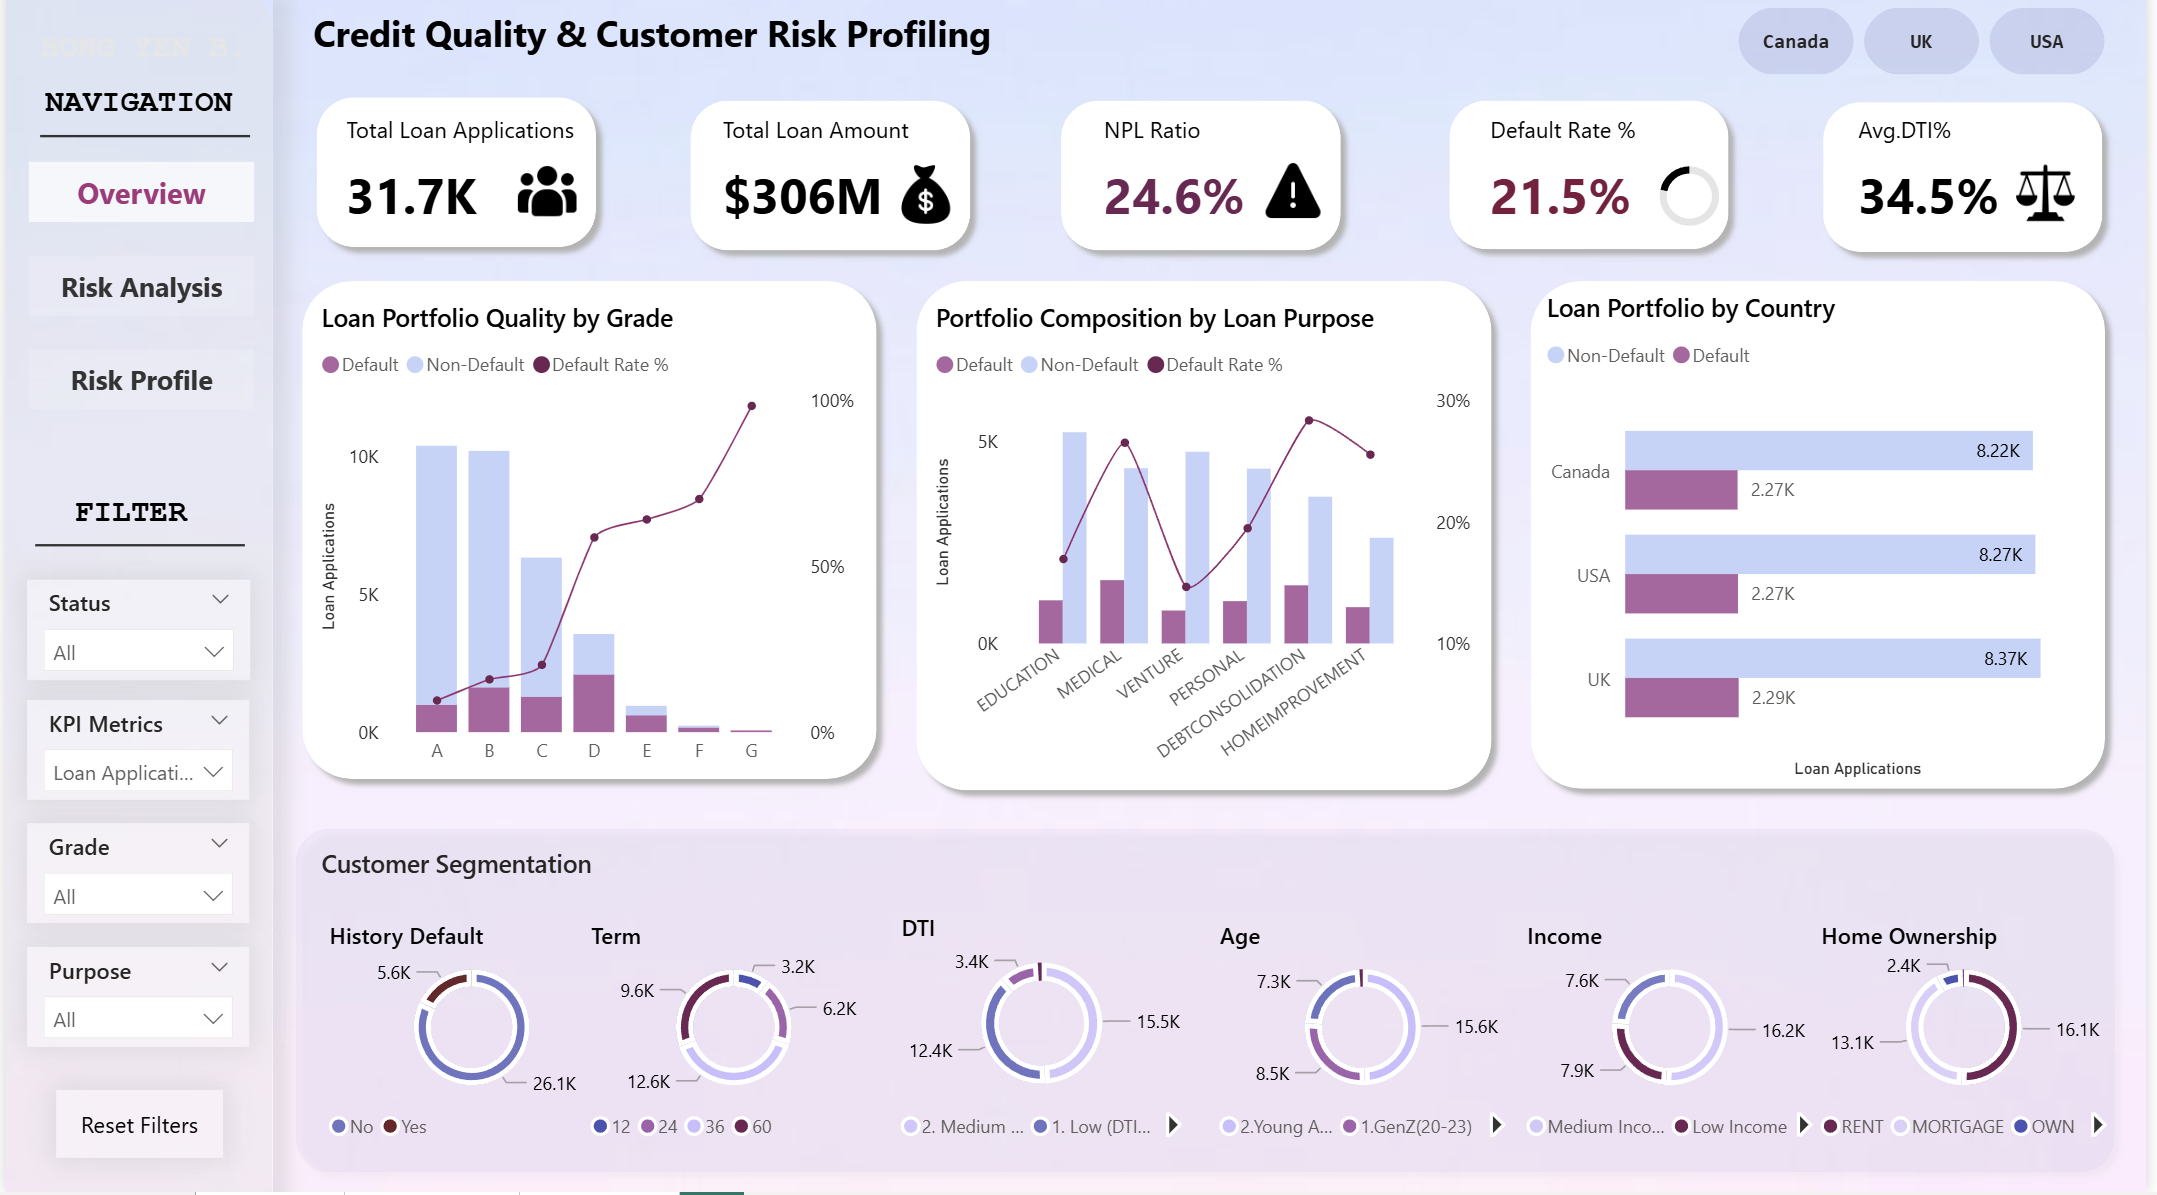

Layout of this report page (visuals, bound fields, positions):
{"tool":"powerbi","page":{"name":"Overview","canvas":[1280,720],"ordinal":0},"visuals":[{"type":"shape","box":[0,0,159.2,720.1],"z":0,"group":"g6"},{"type":"shape","box":[401.2,58.9,183.3,105.6],"z":0,"group":"g5"},{"type":"shape","box":[903.7,167,359.6,319.7],"z":0,"group":"g2"},{"type":"shape","box":[169.1,167.1,359.6,313.9],"z":0,"group":"g4"},{"type":"shape","box":[536.9,167.1,360,320.7],"z":0,"group":"g3"},{"type":"shape","box":[165.1,495,1103.9,221.6],"z":0,"group":"g1"},{"type":"shape","box":[177.6,56.9,183,105.6],"z":500,"group":"g5"},{"type":"donutChart","title":"History Default","fields":{"Y":["_Measures.Total Loan Applications"],"Category":["dim_credit_history.Person_Default_History"]},"box":[188.3,558.3,180,140.3],"z":500,"group":"g1"},{"type":"actionButton","title":"Reset filter 1","box":[30.1,658.4,99.5,40.6],"z":500,"group":"g6"},{"type":"shape","box":[854.9,58.4,183,105],"z":531,"group":"g5"},{"type":"shape","box":[1078.3,59.8,183,105.6],"z":546,"group":"g5"},{"type":"shape","box":[622.9,58.9,183.3,105.6],"z":562,"group":"g5"},{"type":"image","box":[752.1,102.2,35,36],"z":585,"group":"g5"},{"type":"image","box":[306.1,102.1,35,36.9],"z":609,"group":"g5"},{"type":"image","box":[1201.8,104.4,35,35],"z":656,"group":"g5"},{"type":"lineStackedColumnComboChart","title":"Loan Portfolio Quality by Grade","fields":{"Y":["_Measures.Total Loan Applications"],"Category":["credit_risk fact_loan_details.loan_grade"],"Y2":["_Measures.Default Rate %"],"Series":["fact_loan_details.Loan label"]},"box":[183.6,183.5,328.5,290.6],"z":1000,"group":"g4"},{"type":"lineClusteredColumnComboChart","title":"Portfolio Composition by Loan Purpose","fields":{"Y":["_Measures.Total Loan Applications"],"Category":["credit_risk fact_loan_details.loan_intent"],"Series":["fact_loan_details.Loan label"],"Y2":["_Measures.Default Rate %"]},"box":[551.6,183.5,330.4,292.5],"z":1000,"group":"g3"},{"type":"donutChart","title":"DTI","fields":{"Y":["_Measures.Total Loan Applications"],"Category":["fact_loan_details.DTI Risk Segment"]},"box":[530,552.9,177.6,145.2],"z":1000,"group":"g1"},{"type":"donutChart","title":"Term","fields":{"Y":["_Measures.Total Loan Applications"],"Category":["credit_risk fact_loan_details.loan_term_months"]},"box":[344.9,558.2,180.7,140.3],"z":1500,"group":"g1"},{"type":"slicer","fields":{"Values":["credit_risk fact_loan_details.loan_grade"]},"box":[13.1,499.7,132.9,59.7],"z":2000,"group":"g6"},{"type":"donutChart","title":"Age","fields":{"Y":["_Measures.Total Loan Applications"],"Category":["dim_customer.Age Group"]},"box":[720.8,558.2,180.7,140.3],"z":2000,"group":"g1"},{"type":"slicer","fields":{"Values":["fact_loan_details.Loan label"]},"box":[12.7,353.8,133.5,60],"z":3000,"group":"g6"},{"type":"donutChart","title":"Income","fields":{"Y":["_Measures.Total Loan Applications"],"Category":["dim_customer.Income Segment"]},"box":[904.6,558.2,180.7,140.3],"z":3000,"group":"g1"},{"type":"donutChart","title":"Home Ownership","fields":{"Y":["_Measures.Total Loan Applications"],"Category":["dim_customer.person_home_ownership"]},"box":[1080.2,558.2,180.7,140.3],"z":4000,"group":"g1"},{"type":"slicer","fields":{"Values":["fact_loan_details.loan_intent"]},"box":[13.1,572.9,132.9,59.7],"z":4000,"group":"g6"},{"type":"textbox","box":[183.6,508.6,343,35],"z":4500,"group":"g1"},{"type":"slicer","fields":{"Values":["Parameter 2.Parameter"]},"box":[13.1,425.4,132.9,59.7],"z":5000,"group":"g6"},{"type":"group","id":"g1","title":"Report 1: Chart 4","box":[165.1,495,1103.9,221.6],"z":5000},{"type":"textbox","box":[15.4,20.5,143.8,36],"z":6000,"group":"g6"},{"type":"pageNavigator","box":[13.3,103.9,135,150.3],"z":7000,"group":"g6"},{"type":"textbox","box":[18.9,53.3,141.1,37.8],"z":8000,"group":"g6"},{"type":"image","box":[532.4,105.1,35,35],"z":8000,"group":"g5"},{"type":"clusteredBarChart","title":"Loan Portfolio by Country","fields":{"Y":["_Measures.Total Loan Applications"],"Category":["dim_location.country"],"Series":["fact_loan_details.Loan label"]},"box":[916.4,177.3,335.2,299],"z":8000,"group":"g2"},{"type":"group","id":"g2","title":"Report 1- Chart 3","box":[903.7,167,359.6,319.7],"z":8001},{"type":"group","id":"g3","title":"Report 1-Chart 2","box":[536.9,167.1,360,320.7],"z":8063},{"type":"group","id":"g4","title":"Report 1-chart1","box":[169.1,167.1,359.6,313.9],"z":8126},{"type":"group","id":"g5","title":"Report 1-KPI","box":[177.6,56.9,1099,108.9],"z":8188},{"type":"group","id":"g6","title":"navigation pane_1","box":[0,0,160,720.1],"z":8219},{"type":"advancedSlicerVisual","fields":{"Values":["dim_location.country"]},"box":[1030.6,7,230.3,50],"z":8251},{"type":"textbox","box":[178.8,8,428.2,47.8],"z":8501},{"type":"textbox","box":[36,297.9,93.5,38],"z":9000,"group":"g6"},{"type":"donutChart","fields":{"Category":["fact_loan_details.Loan label"],"Y":["CountNonNull(fact_loan_details.loan_ID)"]},"box":[979.5,85.7,54.4,77.7],"z":9500,"group":"g5"},{"type":"cardVisual","fields":{"Data":["_Measures.Total Loan Applications","_Measures.Total Loan Amount","_Measures.NPL Ratio","_Measures.Default Rate %","Avg(credit_risk fact_loan_details.debt_to_income_ratio)"]},"box":[184.6,57.7,1091.4,101.4],"z":10000,"group":"g5"},{"type":"shape","box":[20,72.2,125.6,33.3],"z":10000,"group":"g6"},{"type":"shape","box":[17.5,316.4,125.3,32.9],"z":11000,"group":"g6"}]}

Visuals, with their boxes in screenshot pixels (x1, y1, x2, y2), scaled from the page's 1280x720 canvas onto the 2157x1195 screenshot:
shape: (x1=0, y1=0, x2=268, y2=1194)
shape: (x1=676, y1=98, x2=985, y2=273)
shape: (x1=1523, y1=277, x2=2129, y2=808)
shape: (x1=285, y1=277, x2=891, y2=798)
shape: (x1=905, y1=277, x2=1511, y2=810)
shape: (x1=278, y1=822, x2=2138, y2=1189)
shape: (x1=299, y1=94, x2=608, y2=270)
"History Default" donutChart: (x1=317, y1=927, x2=621, y2=1159)
"Reset filter 1" actionButton: (x1=51, y1=1093, x2=218, y2=1160)
shape: (x1=1441, y1=97, x2=1749, y2=271)
shape: (x1=1817, y1=99, x2=2125, y2=275)
shape: (x1=1050, y1=98, x2=1359, y2=273)
image: (x1=1267, y1=170, x2=1326, y2=229)
image: (x1=516, y1=169, x2=575, y2=231)
image: (x1=2025, y1=173, x2=2084, y2=231)
"Loan Portfolio Quality by Grade" lineStackedColumnComboChart: (x1=309, y1=305, x2=863, y2=787)
"Portfolio Composition by Loan Purpose" lineClusteredColumnComboChart: (x1=930, y1=305, x2=1486, y2=790)
"DTI" donutChart: (x1=893, y1=918, x2=1192, y2=1159)
"Term" donutChart: (x1=581, y1=926, x2=886, y2=1159)
slicer - credit_risk fact_loan_details.loan_grade: (x1=22, y1=829, x2=246, y2=928)
"Age" donutChart: (x1=1215, y1=926, x2=1519, y2=1159)
slicer - fact_loan_details.Loan label: (x1=21, y1=587, x2=246, y2=687)
"Income" donutChart: (x1=1524, y1=926, x2=1829, y2=1159)
"Home Ownership" donutChart: (x1=1820, y1=926, x2=2125, y2=1159)
slicer - fact_loan_details.loan_intent: (x1=22, y1=951, x2=246, y2=1050)
textbox: (x1=309, y1=844, x2=887, y2=902)
slicer - Parameter 2.Parameter: (x1=22, y1=706, x2=246, y2=805)
"Report 1: Chart 4" group: (x1=278, y1=822, x2=2138, y2=1189)
textbox: (x1=26, y1=34, x2=268, y2=94)
pageNavigator: (x1=22, y1=172, x2=250, y2=422)
textbox: (x1=32, y1=88, x2=270, y2=151)
image: (x1=897, y1=174, x2=956, y2=233)
"Loan Portfolio by Country" clusteredBarChart: (x1=1544, y1=294, x2=2109, y2=791)
"Report 1- Chart 3" group: (x1=1523, y1=277, x2=2129, y2=808)
"Report 1-Chart 2" group: (x1=905, y1=277, x2=1511, y2=810)
"Report 1-chart1" group: (x1=285, y1=277, x2=891, y2=798)
"Report 1-KPI" group: (x1=299, y1=94, x2=2151, y2=275)
"navigation pane_1" group: (x1=0, y1=0, x2=270, y2=1194)
advancedSlicerVisual - dim_location.country: (x1=1737, y1=12, x2=2125, y2=95)
textbox: (x1=301, y1=13, x2=1023, y2=93)
textbox: (x1=61, y1=494, x2=218, y2=558)
donutChart - fact_loan_details.Loan label x CountNonNull(fact_loan_details.loan_ID): (x1=1651, y1=142, x2=1742, y2=271)
cardVisual - _Measures.Total Loan Applications x _Measures.Total Loan Amount: (x1=311, y1=96, x2=2150, y2=264)
shape: (x1=34, y1=120, x2=245, y2=175)
shape: (x1=29, y1=525, x2=241, y2=580)
